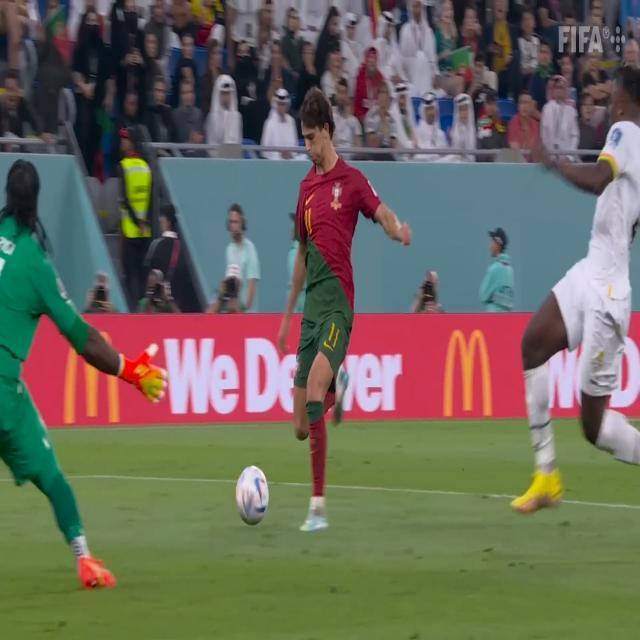football: (221, 453, 283, 543)
